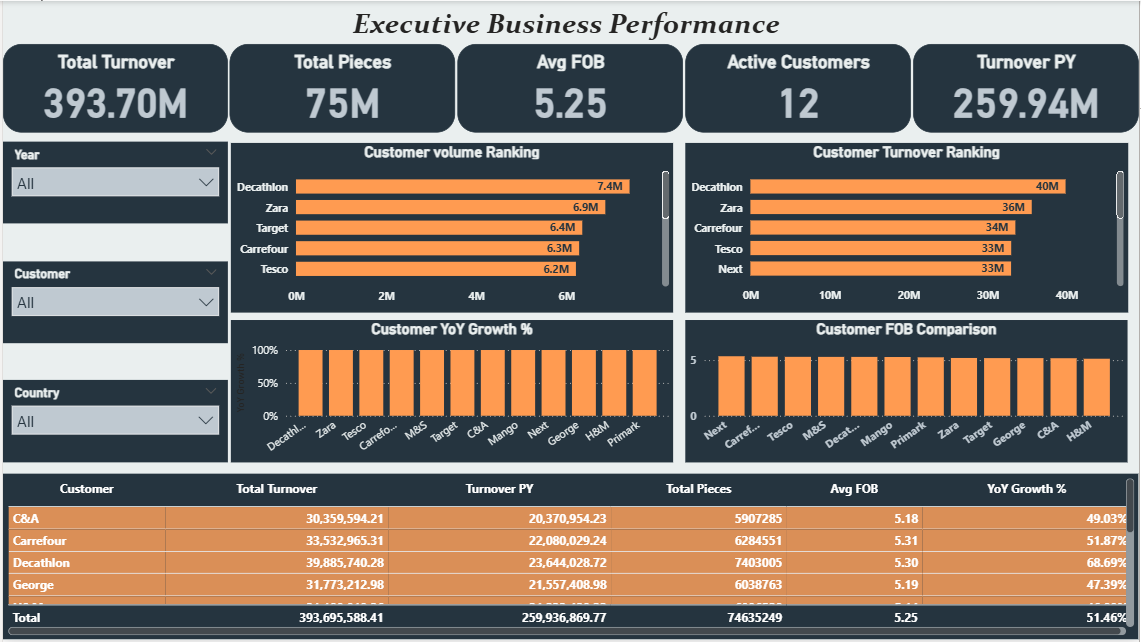

The page's visual inventory and layout, read from the dashboard file:
{"tool":"powerbi","page":{"name":"Customer Analysis","canvas":[1280,720],"ordinal":1},"visuals":[{"type":"textbox","box":[248.7,0,781.3,51.7],"z":0},{"type":"card","title":"Total Turnover","fields":{"Values":["Measurs.Total Turnover"]},"box":[0,48,253.7,99.7],"z":1000},{"type":"card","title":"Total Pieces","fields":{"Values":["Measurs.Total Pieces"]},"box":[256,47.9,254,100],"z":2000},{"type":"card","title":"Avg FOB","fields":{"Values":["Measurs.Avg FOB"]},"box":[512.4,47.9,254,100],"z":3000},{"type":"card","title":"Active Customers","fields":{"Values":["Measurs.Active Customers"]},"box":[768.7,47.9,254,100],"z":4000},{"type":"card","title":"Turnover PY","fields":{"Values":["Measurs.Turnover PY"]},"box":[1025.1,47.9,254,100],"z":5000},{"type":"slicer","fields":{"Values":["Purchase_Orders.Year"]},"box":[0,159,253.7,92.1],"z":6000},{"type":"slicer","fields":{"Values":["Purchase_Orders.Customer"]},"box":[0,293.3,253.7,92.1],"z":7000},{"type":"slicer","fields":{"Values":["Purchase_Orders.Country"]},"box":[0,427.6,253.1,92.6],"z":8000},{"type":"barChart","title":"Customer Turnover Ranking","fields":{"Category":["Purchase_Orders.Customer"],"Y":["Measurs.Total Turnover"]},"box":[768.9,160.4,499,190.9],"z":9000},{"type":"hundredPercentStackedColumnChart","title":"Customer YoY Growth %","fields":{"Y":["Measurs.YoY Growth %"],"Category":["Purchase_Orders.Customer"]},"box":[256.2,359.6,498.6,160.5],"z":10000},{"type":"clusteredColumnChart","title":"Customer FOB Comparison","fields":{"Category":["Purchase_Orders.Customer"],"Y":["Measurs.Avg FOB"]},"box":[768.7,359.6,498.6,160.5],"z":11000},{"type":"tableEx","title":"Customer Performance Matrix","fields":{"Values":["Purchase_Orders.Customer","Measurs.Total Turnover","Measurs.Turnover PY","Measurs.Total Pieces","Measurs.Avg FOB","Measurs.YoY Growth %"]},"box":[0,532.5,1279.6,186.8],"z":12000},{"type":"barChart","title":"Customer volume Ranking","fields":{"Category":["Purchase_Orders.Customer"],"Y":["Measurs.Total Pieces"]},"box":[256.2,160.5,498.6,191.4],"z":13000}]}

Visuals, with their boxes in screenshot pixels (x1, y1, x2, y2), scaled from the page's 1280x720 canvas onto the 1141x642 screenshot:
textbox: pyautogui.locateOnScreen(222, 0, 918, 46)
"Total Turnover" card: pyautogui.locateOnScreen(0, 43, 226, 132)
"Total Pieces" card: pyautogui.locateOnScreen(228, 43, 455, 132)
"Avg FOB" card: pyautogui.locateOnScreen(457, 43, 683, 132)
"Active Customers" card: pyautogui.locateOnScreen(685, 43, 912, 132)
"Turnover PY" card: pyautogui.locateOnScreen(914, 43, 1140, 132)
slicer - Purchase_Orders.Year: pyautogui.locateOnScreen(0, 142, 226, 224)
slicer - Purchase_Orders.Customer: pyautogui.locateOnScreen(0, 262, 226, 344)
slicer - Purchase_Orders.Country: pyautogui.locateOnScreen(0, 381, 226, 464)
"Customer Turnover Ranking" barChart: pyautogui.locateOnScreen(685, 143, 1130, 313)
"Customer YoY Growth %" hundredPercentStackedColumnChart: pyautogui.locateOnScreen(228, 321, 673, 464)
"Customer FOB Comparison" clusteredColumnChart: pyautogui.locateOnScreen(685, 321, 1130, 464)
"Customer Performance Matrix" tableEx: pyautogui.locateOnScreen(0, 475, 1140, 641)
"Customer volume Ranking" barChart: pyautogui.locateOnScreen(228, 143, 673, 314)
